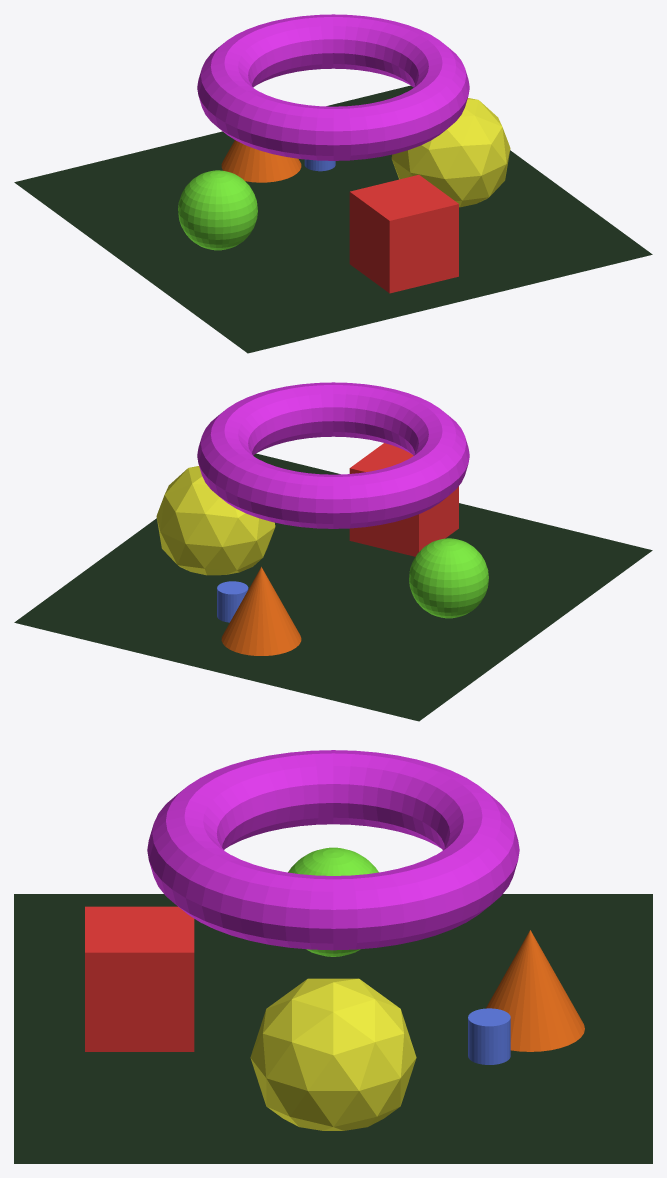
Rendered from simple-scene.glb.
3 views of the same model, one above another, from view 1: azimuth 30°, elevation 25°; view 2: azimuth 150°, elevation 25°; view 3: azimuth 270°, elevation 25° (orthographic). The views are drawn at different scales.
Parts seen in each view (by area): view 1: Plane, Torus, Cube, Icosphere, Sphere, Cone; view 2: Plane, Torus, Icosphere, Sphere, Cube, Cone, Cylinder; view 3: Plane, Torus, Icosphere, Cube, Cone, Cylinder, Sphere.
Boxes of the visible parts, x1,y1,x2,y2 form: Plane: [14, 85, 652, 353]; Torus: [197, 14, 469, 160]; Cube: [349, 175, 458, 293]; Icosphere: [391, 98, 510, 207]; Sphere: [178, 170, 257, 250]; Cone: [221, 140, 301, 182]; Plane: [14, 453, 652, 721]; Torus: [197, 382, 469, 528]; Icosphere: [156, 466, 275, 575]; Sphere: [409, 538, 488, 618]; Cube: [349, 443, 458, 556]; Cone: [221, 567, 301, 655]; Cylinder: [217, 581, 248, 622]; Plane: [14, 894, 652, 1163]; Torus: [147, 750, 519, 950]; Icosphere: [250, 978, 416, 1130]; Cube: [85, 906, 194, 1051]; Cone: [486, 930, 584, 1051]; Cylinder: [468, 1008, 510, 1064]; Sphere: [288, 847, 378, 956].
Size of the model in its own units: 11.68 by 4.8 by 11.68.
